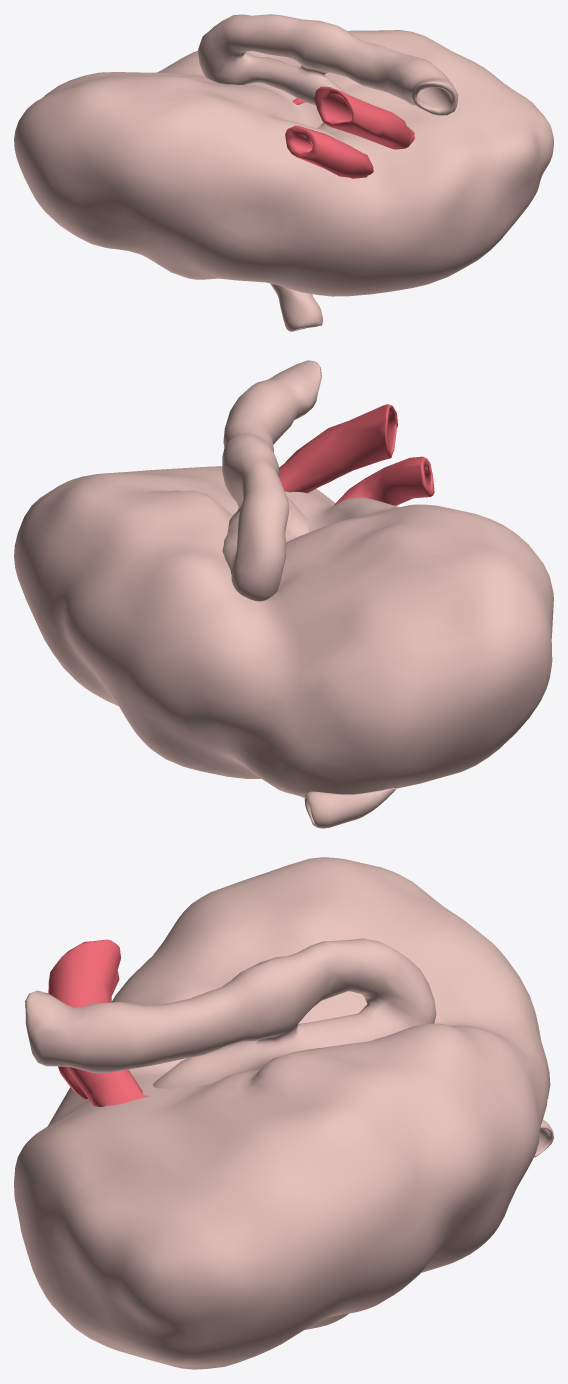
The model's file is lymph-node.c4c3ad6c.glb.
The picture shows the model from 3 angles, top to bottom: view 1: azimuth 30°, elevation 25°; view 2: azimuth 150°, elevation 25°; view 3: azimuth 270°, elevation 25°; orthographic projection. The views are drawn at different scales.
Visible parts, largest first — view 1: Yao_capsule_of_lymph_node, Yao_efferent_lymph_node, Yao_blood_vasculature, Yao_afferent_lymphatic_vessel; view 2: Yao_capsule_of_lymph_node, Yao_efferent_lymph_node, Yao_blood_vasculature, Yao_afferent_lymphatic_vessel; view 3: Yao_capsule_of_lymph_node, Yao_efferent_lymph_node, Yao_blood_vasculature.
Part boxes in pixels (bbox=[...]): Yao_capsule_of_lymph_node: bbox=[14, 30, 553, 296]; Yao_efferent_lymph_node: bbox=[198, 14, 458, 132]; Yao_blood_vasculature: bbox=[285, 86, 415, 178]; Yao_afferent_lymphatic_vessel: bbox=[270, 283, 322, 331]; Yao_capsule_of_lymph_node: bbox=[14, 466, 553, 797]; Yao_efferent_lymph_node: bbox=[222, 360, 321, 601]; Yao_blood_vasculature: bbox=[279, 404, 434, 505]; Yao_afferent_lymphatic_vessel: bbox=[304, 788, 396, 828]; Yao_capsule_of_lymph_node: bbox=[14, 857, 550, 1369]; Yao_efferent_lymph_node: bbox=[25, 938, 436, 1088]; Yao_blood_vasculature: bbox=[48, 939, 149, 1106].
Bounding box in the file's own units: 0.0183 × 0.0107 × 0.013.
